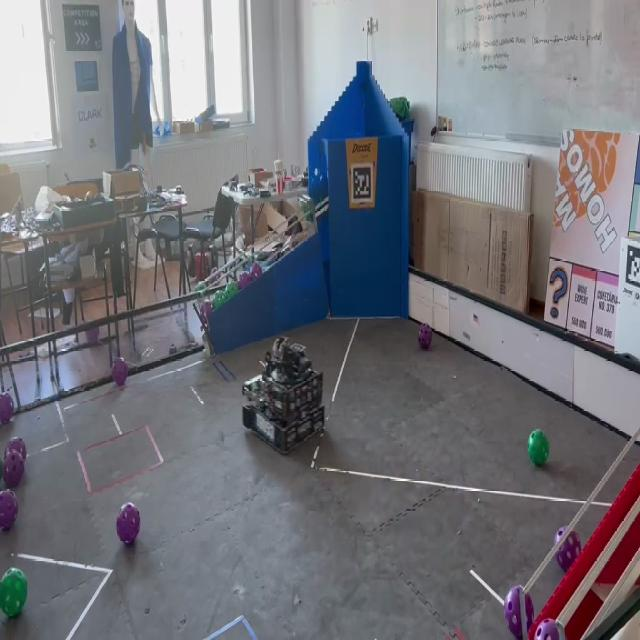artifact_green: (0, 568, 27, 617), (528, 429, 549, 466), (201, 299, 213, 322), (238, 271, 251, 289), (225, 281, 238, 298), (302, 204, 313, 224), (214, 290, 225, 308), (195, 282, 206, 295), (222, 289, 229, 304), (206, 294, 214, 306)
artifact_purple: (556, 532, 581, 572), (117, 503, 140, 544), (504, 586, 522, 638), (2, 451, 24, 488), (0, 489, 18, 531), (5, 437, 26, 461), (535, 619, 559, 639), (112, 357, 128, 386), (0, 393, 14, 424), (200, 300, 213, 326), (419, 324, 432, 350), (85, 327, 99, 343), (238, 272, 251, 289), (250, 263, 263, 280), (209, 268, 221, 285), (204, 300, 213, 318), (200, 304, 206, 325)
